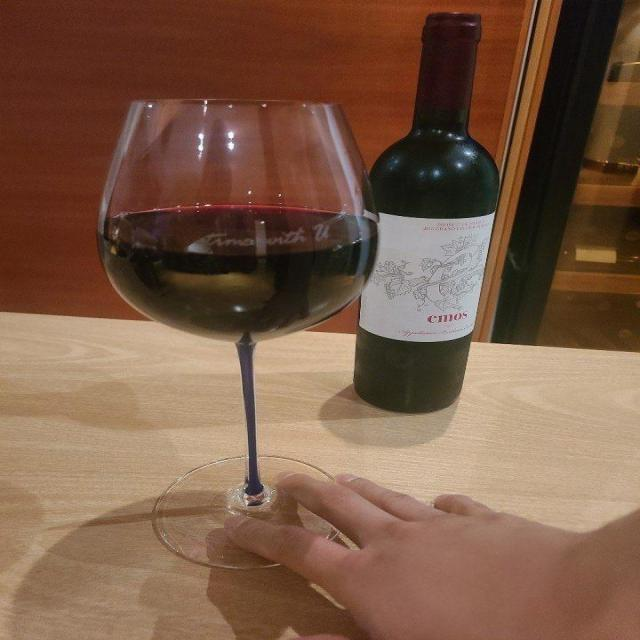bottle-glass: (349, 5, 503, 419)
glass-wine: (97, 90, 387, 577)
